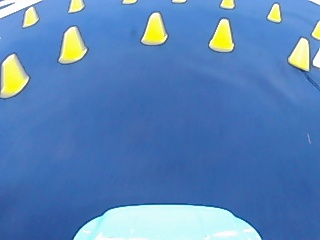cone: (0, 52, 30, 96), (57, 24, 88, 63), (140, 11, 169, 45), (208, 16, 235, 52), (288, 36, 310, 70), (22, 5, 38, 26), (266, 2, 282, 22), (67, 0, 83, 12), (311, 19, 319, 39), (220, 0, 234, 9)
